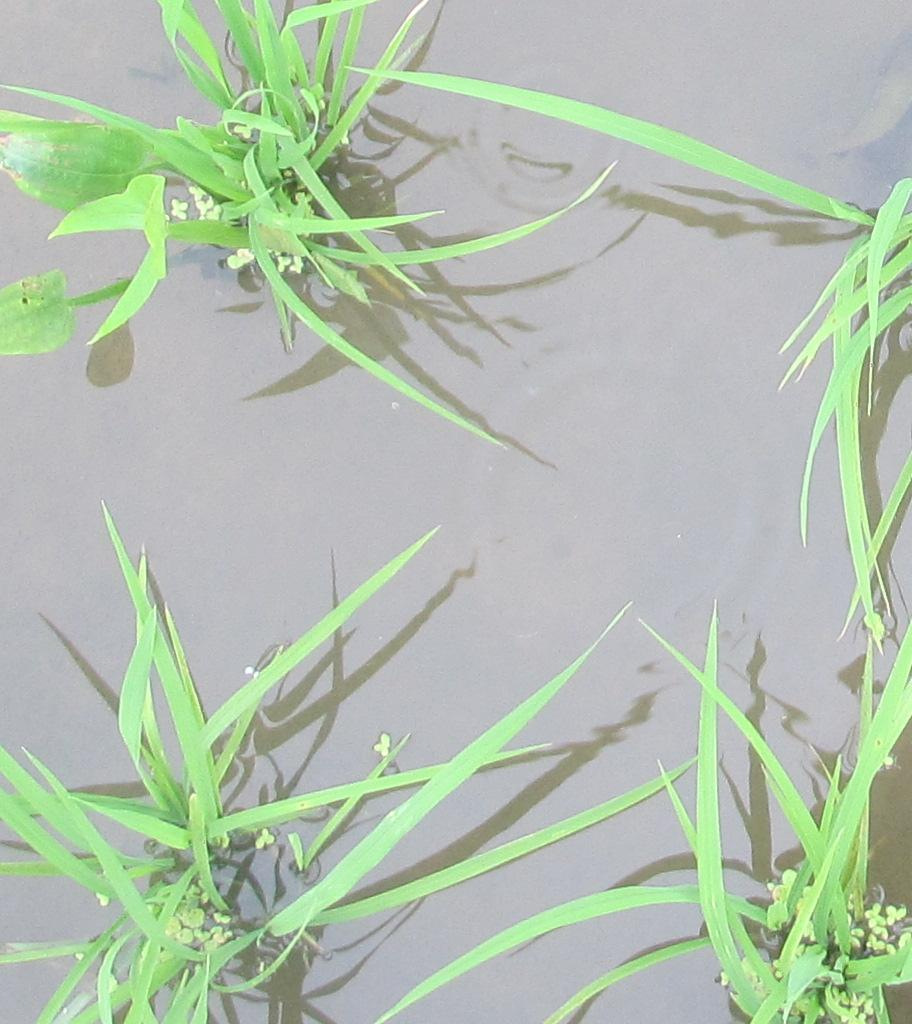Weed: (3, 103, 183, 357)
